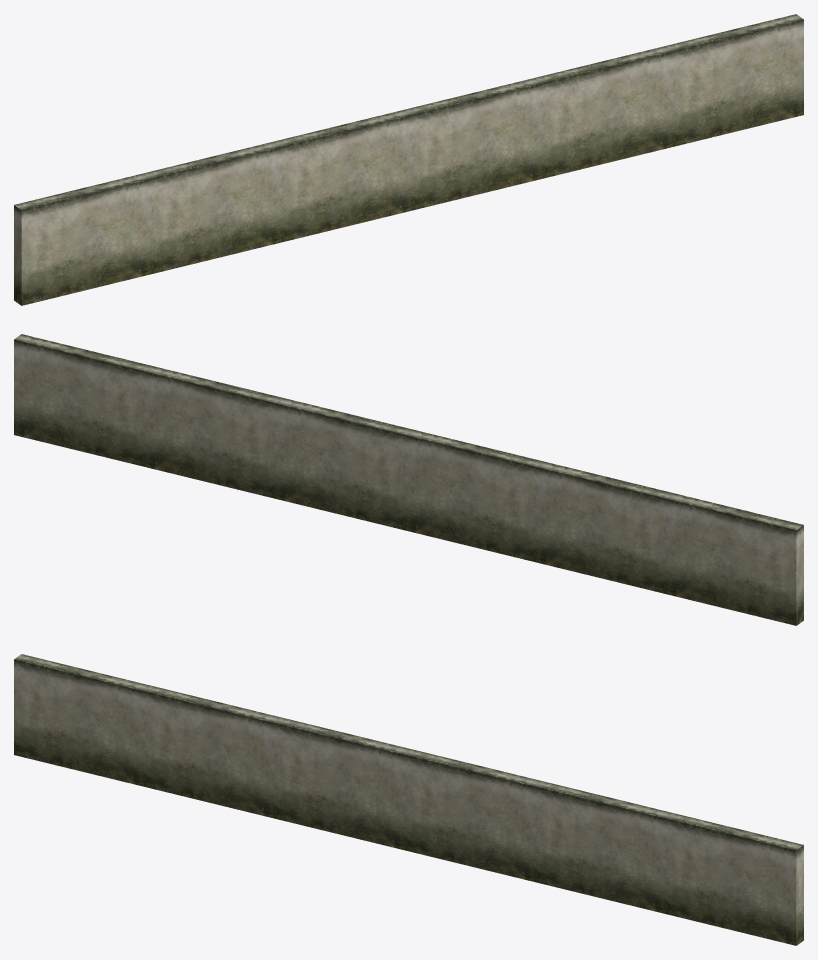
Rendered from LowWallStucco_60.fbx.
3 renders of one model, top to bottom at view 1: azimuth 30°, elevation 25°; view 2: azimuth 150°, elevation 25°; view 3: azimuth 330°, elevation 25°, orthographic.
Visible parts, largest first — view 1: lod_high; view 2: lod_high; view 3: lod_high.
Part boxes in pixels (x1,y1,x2,y2): lod_high: [14, 14, 803, 305]; lod_high: [14, 334, 803, 625]; lod_high: [14, 654, 803, 945].
Bounding box in the file's own units: 6000 × 700 × 100.
1 material, 1 textured.
